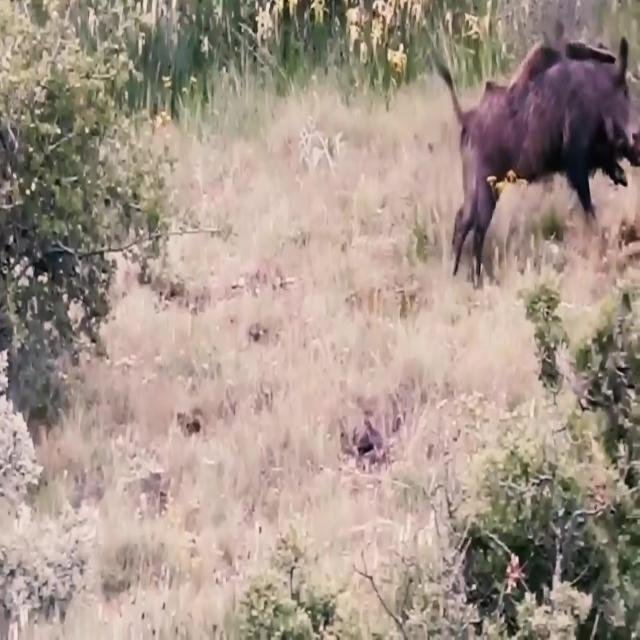pig: (438, 31, 640, 299)
